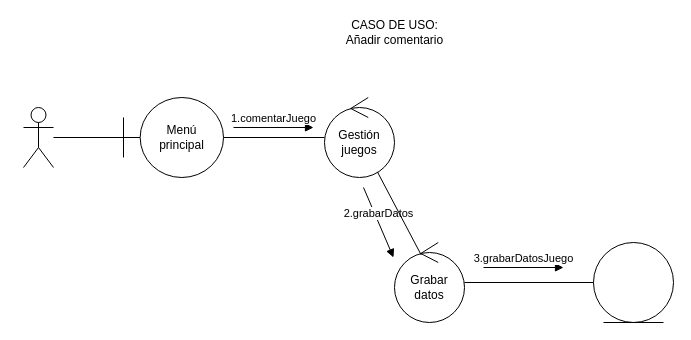
This 691x340 diagram has some shape labels left out. The box of each missing label's shape, as (x1, y1, x2, y2) in pixels:
Estadisticas juego: (592, 242, 674, 322)
Jugador: (22, 106, 54, 168)
